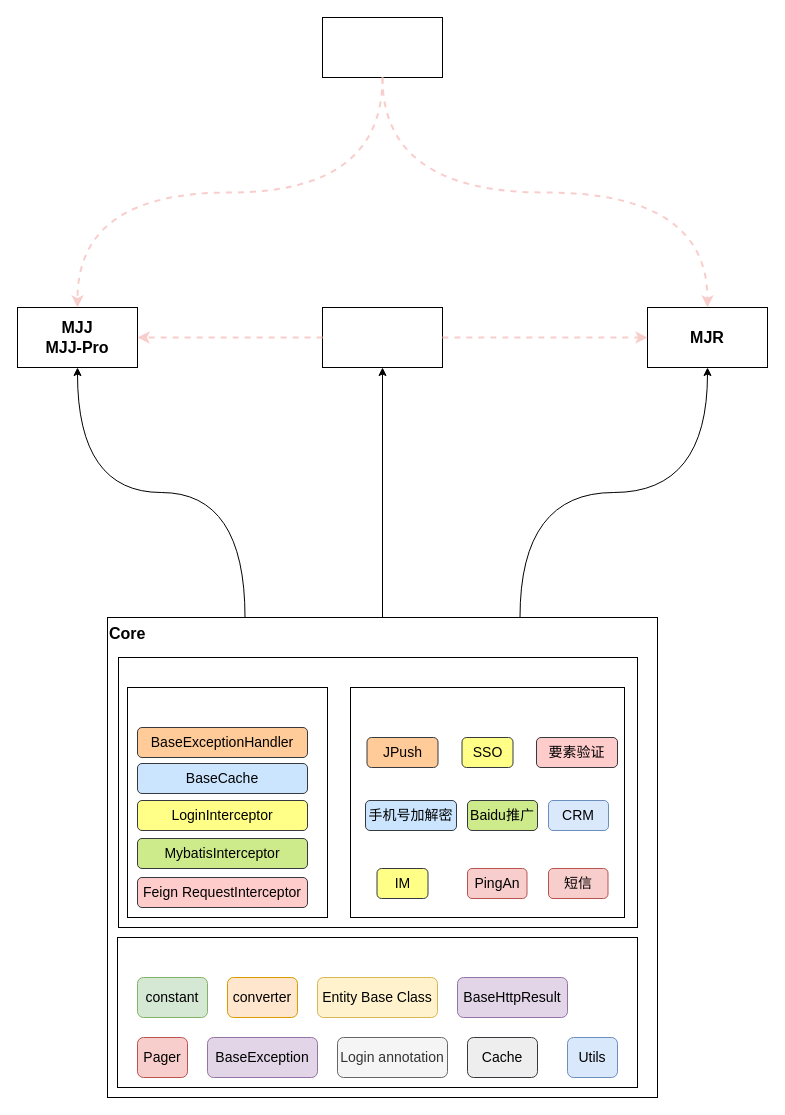
The diagram is 785 pixels wide and 1115 high, and some of its shapes have lost their labels. Each missing label, with the box of its shape:
Account: (322, 306, 442, 368)
Base-API: (350, 686, 624, 918)
Base-Impl: (126, 686, 328, 918)
Core-Base: (116, 936, 638, 1088)
Core-Web: (118, 656, 638, 928)
Mel-Basic: (322, 16, 442, 78)
